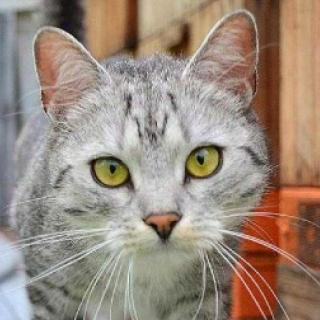cat: (27, 22, 280, 275)
nose: (136, 187, 190, 246)
